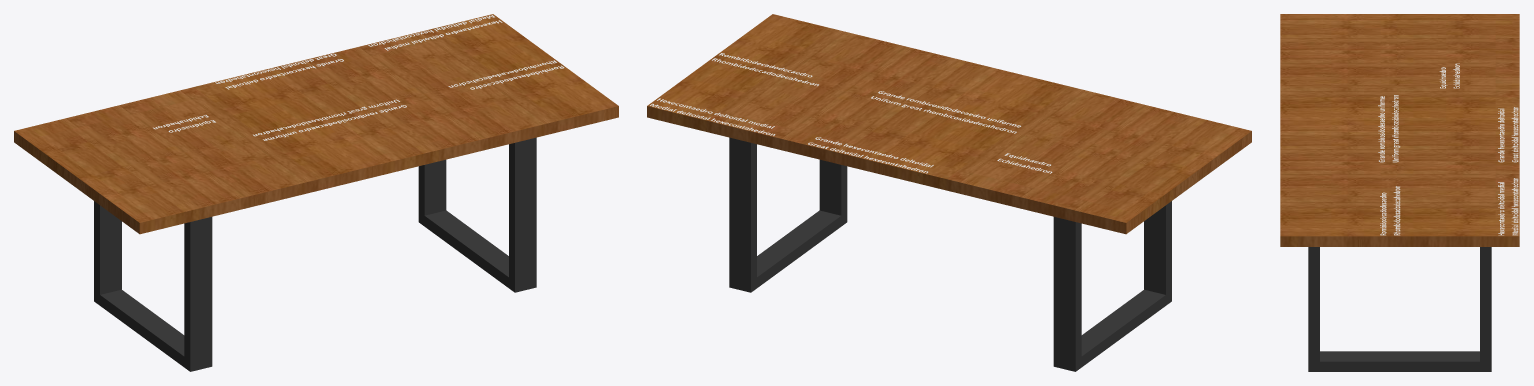
The model's file is mesa_selfIntersect6.glb.
The picture shows the model from 3 angles, left to right: view 1: azimuth 30°, elevation 25°; view 2: azimuth 150°, elevation 25°; view 3: azimuth 270°, elevation 25°; orthographic projection. The views are drawn at different scales.
Visible parts, largest first — view 1: object 1, Composant#1 (×2), Grande rombicosi, Hexecontaedro de, Grande hexeconta#2, Rombidodecadodec; view 2: object 1, Composant#1 (×2), Grande rombicosi, Hexecontaedro de, Grande hexeconta#2, Rombidodecadodec; view 3: object 1, Composant#1, Grande rombicosi, Hexecontaedro de, Grande hexeconta#2, Rombidodecadodec, Equidnaedro Echi.
Part boxes in pixels (x1=…): object 1: x1=14, y1=14, x2=618, y2=234; Composant#1 (×2): x1=94, y1=137, x2=536, y2=371; Grande rombicosi: x1=253, y1=99, x2=406, y2=140; Hexecontaedro de: x1=368, y1=15, x2=502, y2=50; Grande hexeconta#2: x1=215, y1=53, x2=343, y2=89; Rombidodecadodec: x1=448, y1=60, x2=564, y2=89; object 1: x1=647, y1=14, x2=1251, y2=234; Composant#1 (×2): x1=729, y1=137, x2=1171, y2=371; Grande rombicosi: x1=871, y1=91, x2=1020, y2=133; Hexecontaedro de: x1=650, y1=98, x2=775, y2=135; Grande hexeconta#2: x1=808, y1=137, x2=933, y2=173; Rombidodecadodec: x1=712, y1=53, x2=818, y2=86; object 1: x1=1280, y1=14, x2=1519, y2=246; Composant#1: x1=1308, y1=247, x2=1491, y2=371; Grande rombicosi: x1=1378, y1=95, x2=1400, y2=162; Hexecontaedro de: x1=1498, y1=178, x2=1518, y2=235; Grande hexeconta#2: x1=1498, y1=107, x2=1518, y2=162; Rombidodecadodec: x1=1380, y1=186, x2=1400, y2=235; Equidnaedro Echi: x1=1439, y1=63, x2=1459, y2=88.
Size of the model in its own units: 2.2 by 0.771 by 1.
3 materials, 1 textured.
